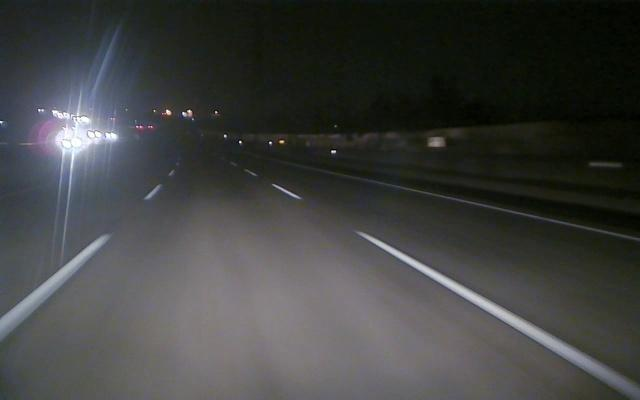lane: (277, 184, 634, 396), (4, 172, 170, 339), (356, 177, 640, 243)
